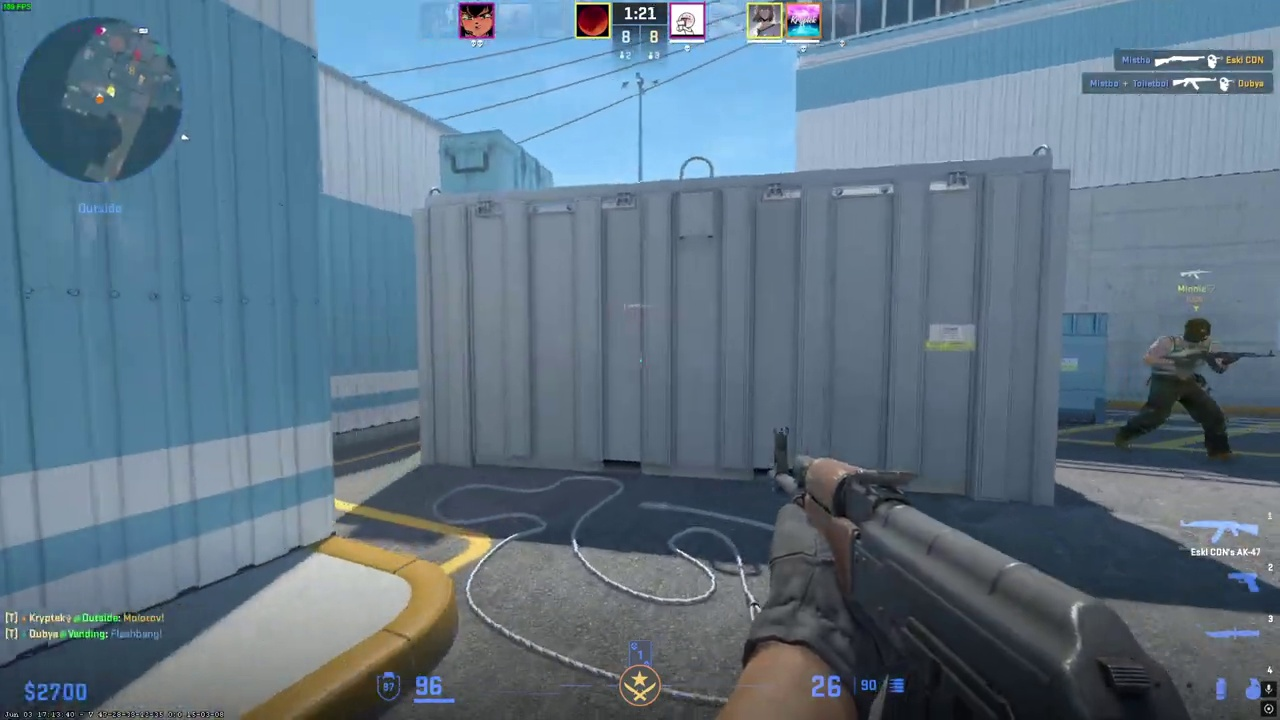Terrorist: (1119, 318, 1241, 463)
